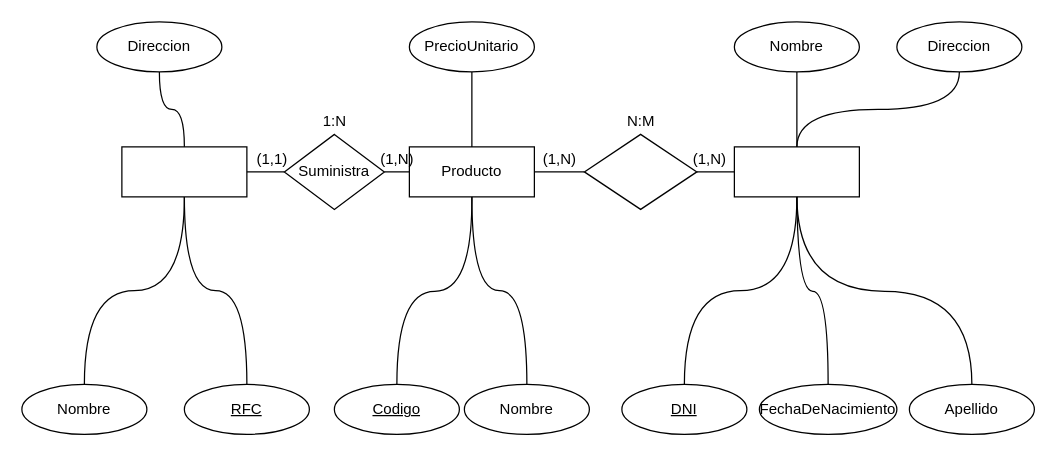
The diagram is 1056 pixels wide and 456 high, and some of its shapes have lost their labels. Here are the shapes that lost their labels. From the top down, the box of each, then its label:
(121, 146, 247, 197): Proveedores
(583, 133, 697, 209): Compra
(733, 146, 859, 197): Cliente
